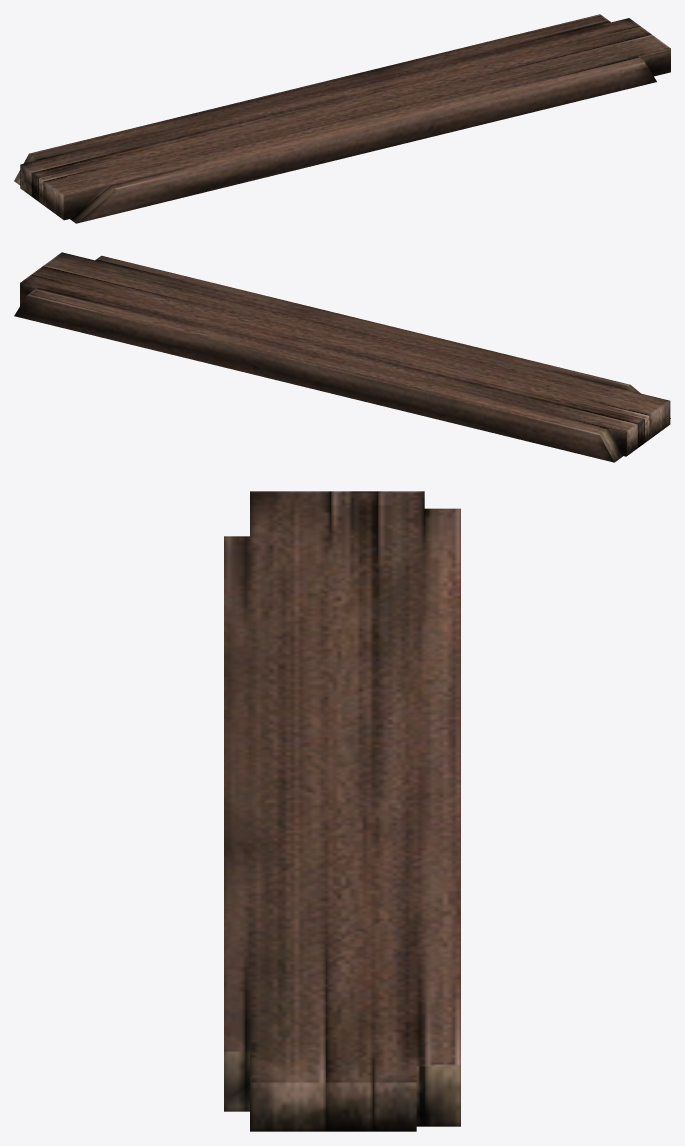
File: stbr6.dae
3 renders of one model, top to bottom at view 1: azimuth 30°, elevation 25°; view 2: azimuth 150°, elevation 25°; view 3: azimuth 270°, elevation 25°, orthographic. The views are drawn at different scales.
Parts seen in each view (by area): view 1: base; view 2: base; view 3: base.
Boxes of the visible parts, x1=… form: base: x1=14, y1=14, x2=670, y2=223; base: x1=14, y1=252, x2=670, y2=462; base: x1=224, y1=491, x2=460, y2=1131.
Size of the model in its own units: 7.26 by 1.23 by 0.2725.
Materials: 1 (1 with a texture image).
